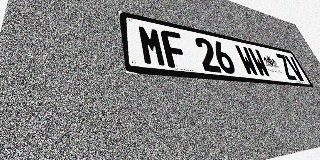2: (193, 36, 222, 73)
6: (210, 40, 237, 74)
F: (160, 29, 190, 69)
M: (137, 25, 168, 67)
V: (284, 55, 306, 81)
W: (234, 45, 260, 77), (247, 47, 272, 78)
Z: (275, 53, 298, 80)
